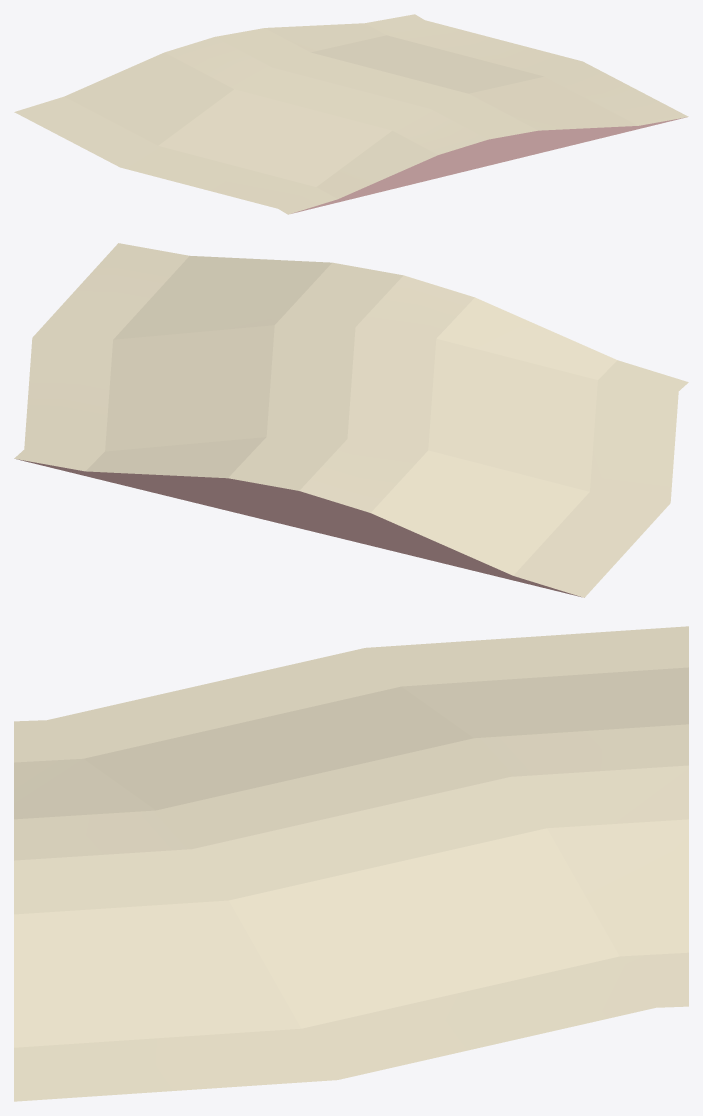
Rendered from Terrain_Sand_Incline_Esse_Both_6x10.fbx.
3 renders of one model, top to bottom at view 1: azimuth 30°, elevation 25°; view 2: azimuth 150°, elevation 25°; view 3: azimuth 270°, elevation 25°, orthographic. The views are drawn at different scales.
Visible parts, largest first — view 1: Terrain_Sand_Incline_Esse_Both_6x10; view 2: Terrain_Sand_Incline_Esse_Both_6x10; view 3: Terrain_Sand_Incline_Esse_Both_6x10.
Boxes of the visible parts, x1,y1,x2,y2 form: Terrain_Sand_Incline_Esse_Both_6x10: (14,14,688,214); Terrain_Sand_Incline_Esse_Both_6x10: (14,243,688,597); Terrain_Sand_Incline_Esse_Both_6x10: (14,626,688,1101).
Bounding box in the file's own units: 1000 × 50 × 600.
